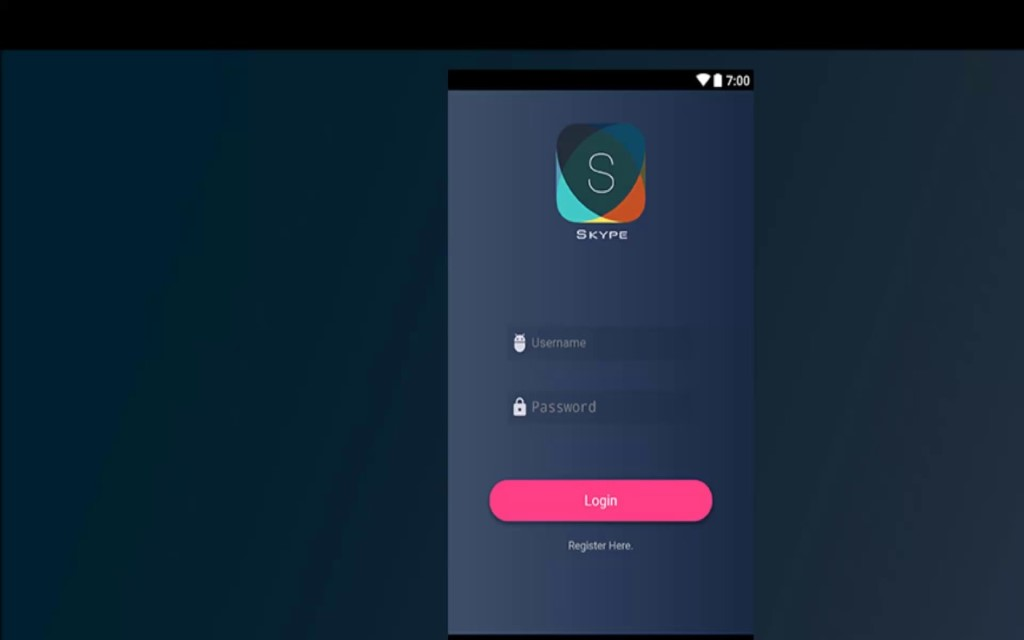button: (488, 479, 715, 522)
button_login: (489, 478, 713, 523)
label_Login: (580, 492, 623, 511)
label_Username: (530, 335, 591, 351)
label_password: (532, 399, 600, 415)
textbox: (527, 390, 702, 423), (529, 327, 703, 359)
textbox_Password: (526, 391, 703, 425)
textbox_username: (528, 324, 707, 364)
url: (564, 536, 631, 556)
